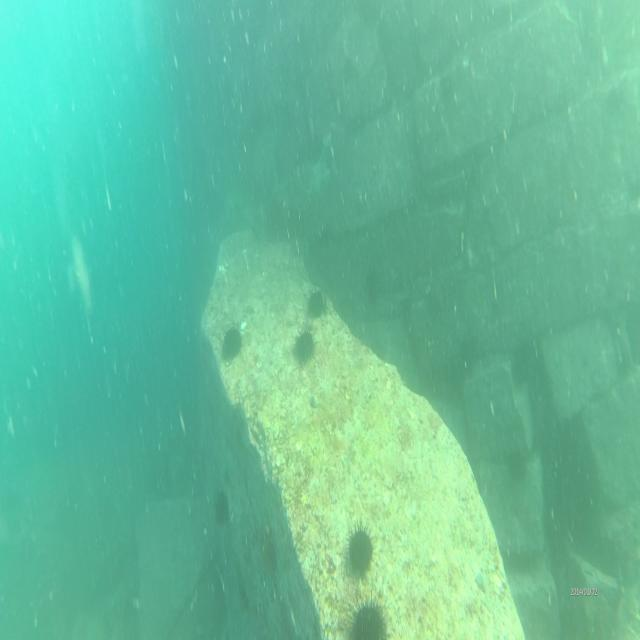echinus: (349, 595, 392, 637), (347, 520, 373, 570), (295, 325, 316, 367), (218, 326, 240, 358), (307, 282, 325, 320), (212, 491, 231, 527)
